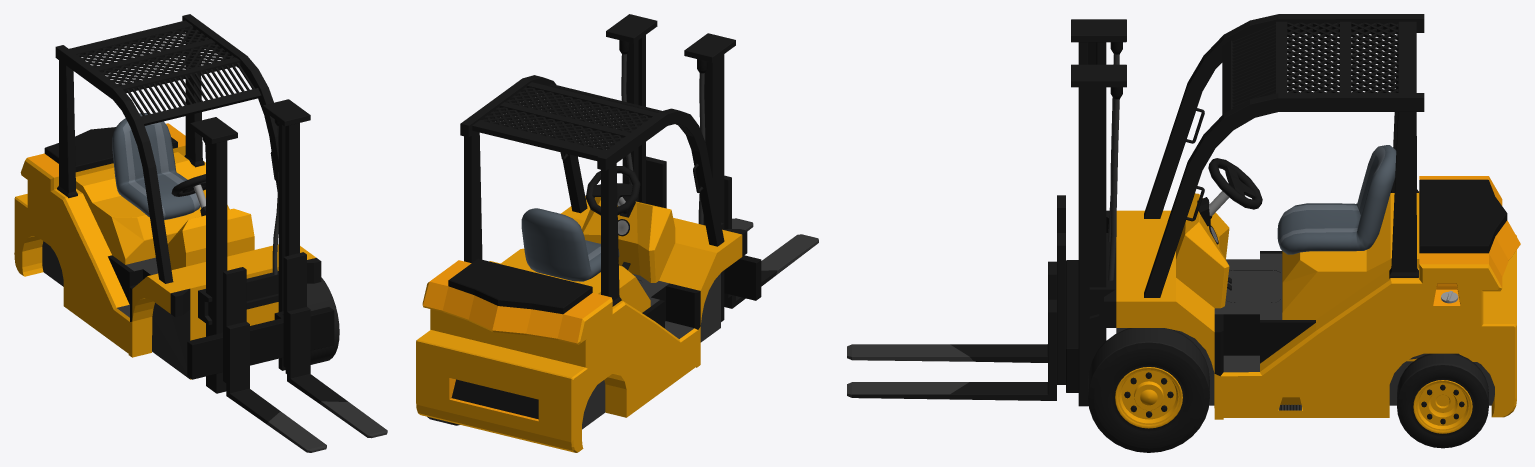
Rendered from forklift.glb.
The picture shows the model from 3 angles, left to right: view 1: azimuth 30°, elevation 25°; view 2: azimuth 150°, elevation 25°; view 3: azimuth 270°, elevation 25°; orthographic projection. The views are drawn at different scales.
Parts seen in each view (by area): view 1: Forklift, Forklift_Front, Wheel_01; view 2: Forklift, Forklift_Front; view 3: Forklift, Wheel_01, Forklift_Front, Wheel_02.
Boxes of the visible parts, x1,y1,x2,y2 form: Forklift: (14, 14, 321, 393); Forklift_Front: (187, 252, 387, 452); Wheel_01: (307, 277, 339, 364); Forklift: (416, 14, 747, 452); Forklift_Front: (646, 156, 818, 308); Forklift: (1071, 14, 1520, 419); Wheel_01: (1088, 328, 1209, 452); Forklift_Front: (847, 195, 1078, 400); Wheel_02: (1397, 353, 1488, 448).
Size of the model in its own units: 1.24 by 2.04 by 3.57.
5 materials, 5 textured.
